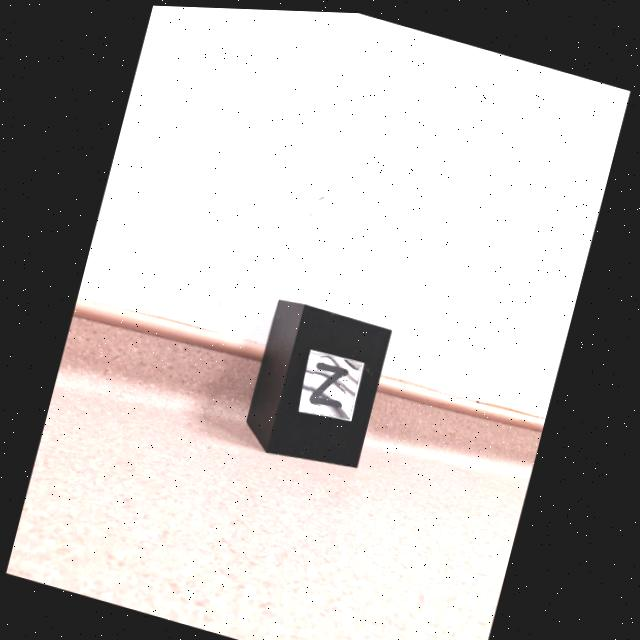Z: (310, 360, 349, 405)
